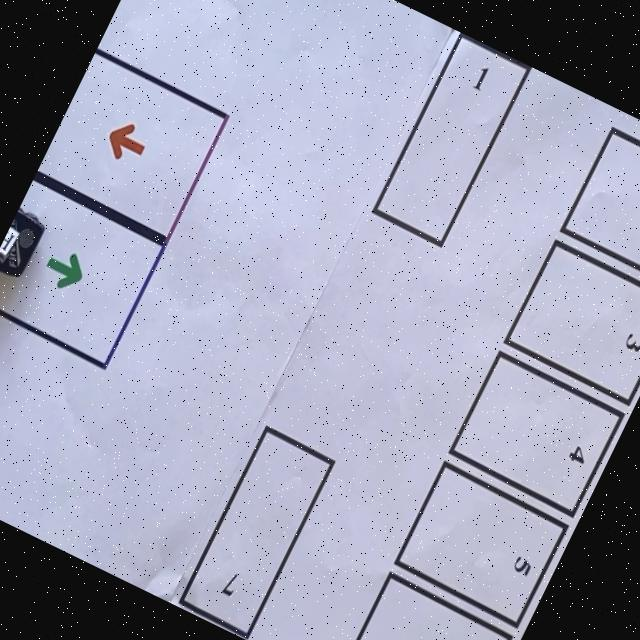car: (0, 202, 55, 289)
